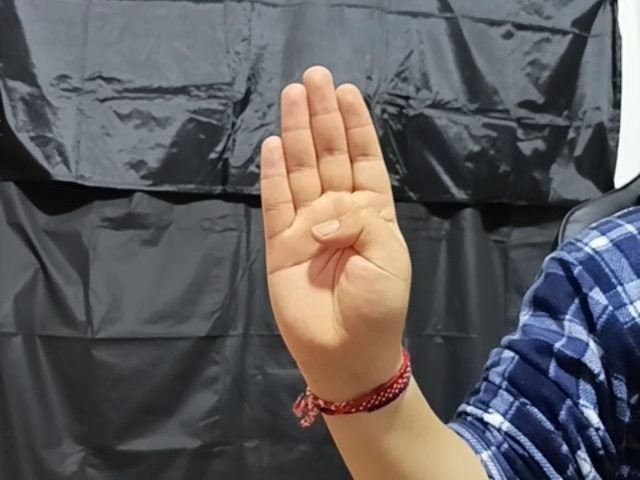B: (249, 64, 423, 371)
